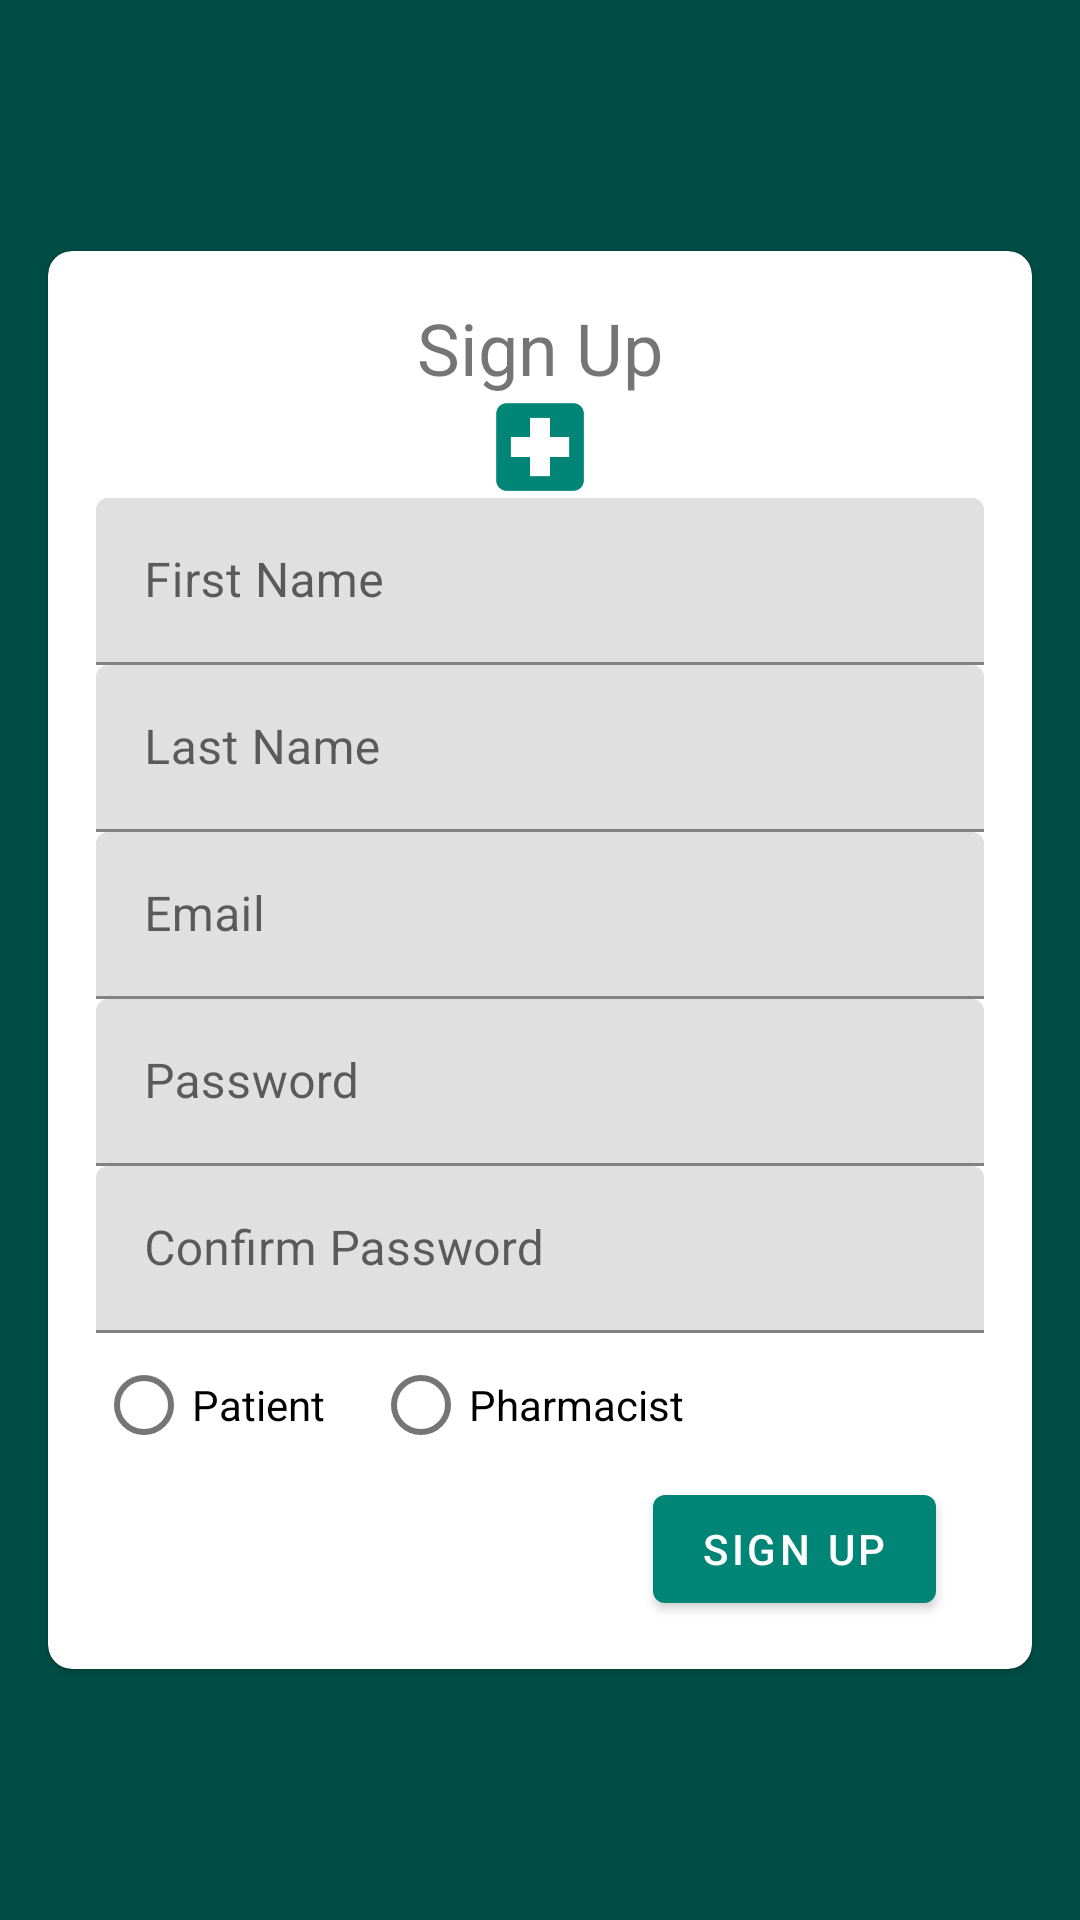

Screen size 1080x1920. Icon name, then its box in pixels as (x1, y1, x2, y2):
medicare: (496, 403, 584, 491)
